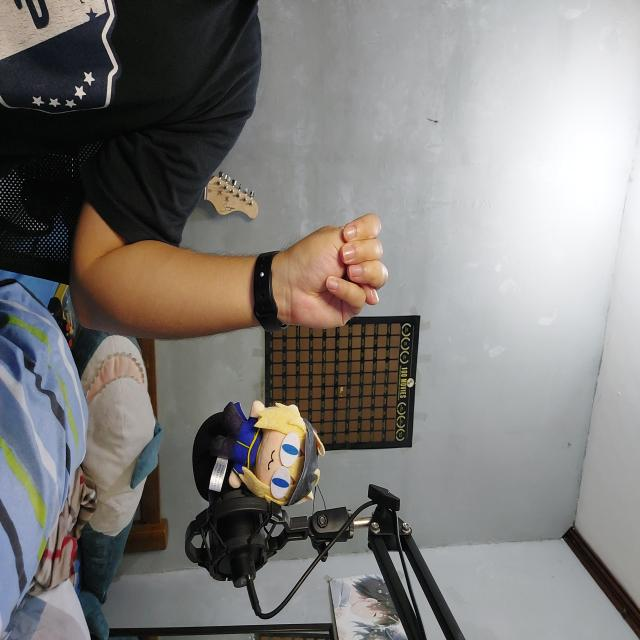M: (279, 200, 395, 354)
